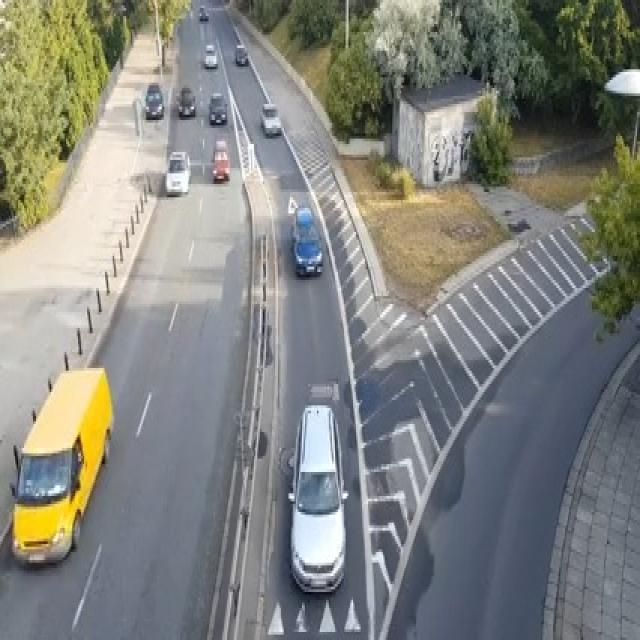bus: (9, 363, 113, 565)
car: (287, 403, 348, 592), (287, 195, 323, 277), (165, 149, 191, 195), (210, 139, 230, 181), (260, 101, 281, 136), (144, 83, 164, 117), (207, 90, 227, 122), (178, 86, 195, 118), (204, 42, 217, 66), (234, 43, 248, 64), (198, 6, 208, 22)
